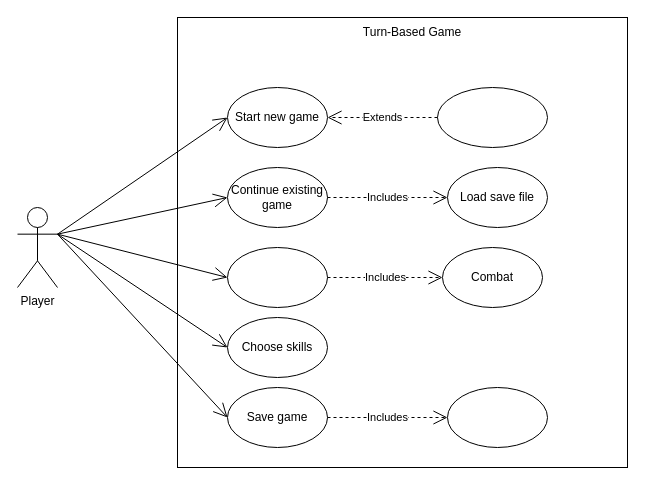
Image size: 645x485. Some labels were removed from this diagram. The shapes that lost their labels are listed below. From the top down, each one's box as (x1, y1, x2, y2) in pixels, then its label:
(436, 86, 548, 148): Play tutorial
(226, 246, 328, 308): Pick a quest
(446, 386, 548, 448): Download save file
